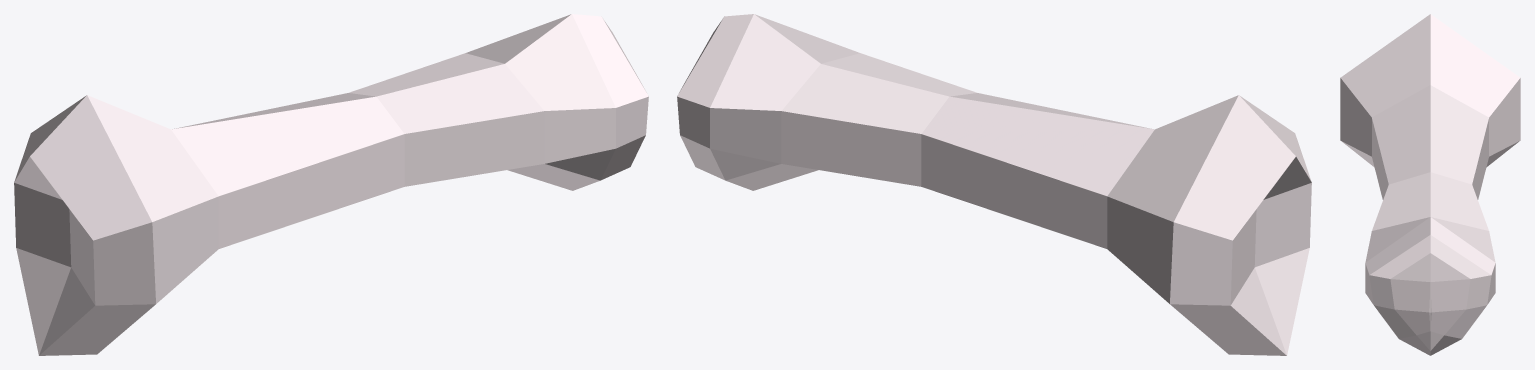
The model's file is Bone.fbx.
3 renders of one model, left to right at view 1: azimuth 30°, elevation 25°; view 2: azimuth 150°, elevation 25°; view 3: azimuth 270°, elevation 25°, orthographic. The views are drawn at different scales.
Parts seen in each view (by area): view 1: BovenArm.001; view 2: BovenArm.001; view 3: BovenArm.001.
Part boxes in pixels (bbox=[...]): BovenArm.001: bbox=[14, 14, 648, 355]; BovenArm.001: bbox=[677, 14, 1311, 355]; BovenArm.001: bbox=[1340, 14, 1520, 355].
Bounding box in the file's own units: 52.69 × 22.19 × 18.66.
